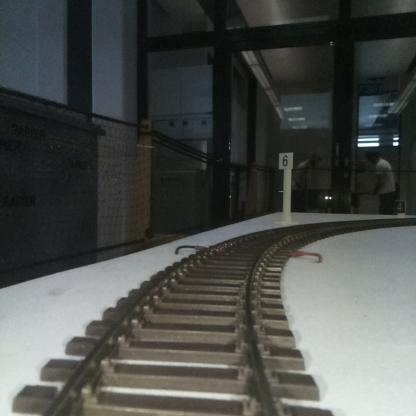white-info-6: (279, 152, 293, 224)
